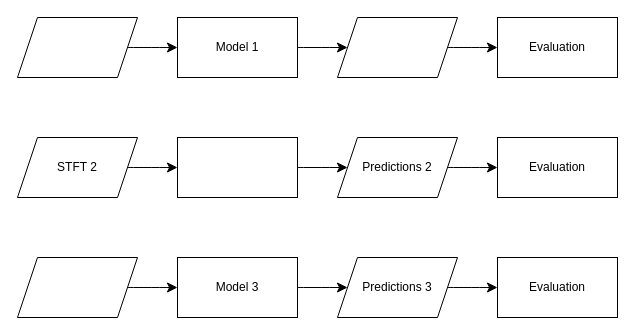
This 635x335 diagram has some shape labels left out. Here are the shapes that lost their labels. From the top down, the box of each, then its label:
(16, 16, 138, 78): STFT 1
(336, 16, 458, 78): Predictions 1
(176, 136, 298, 198): Model 2
(16, 256, 138, 318): STFT 3
